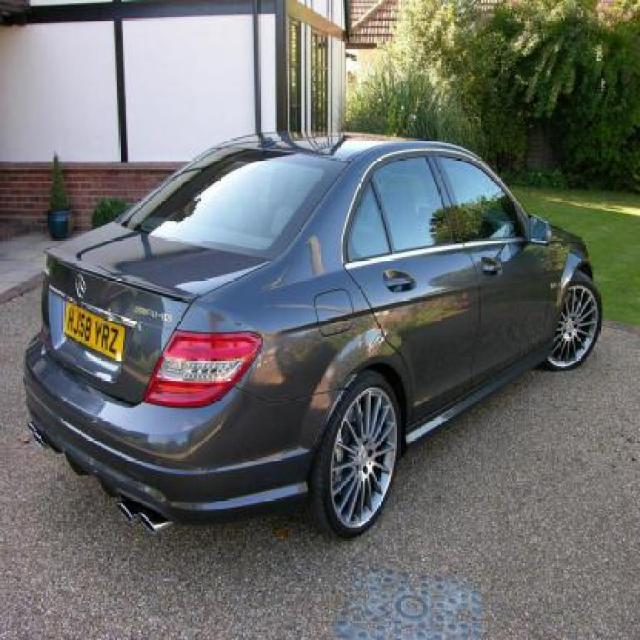License-Plates: (65, 299, 125, 364)
